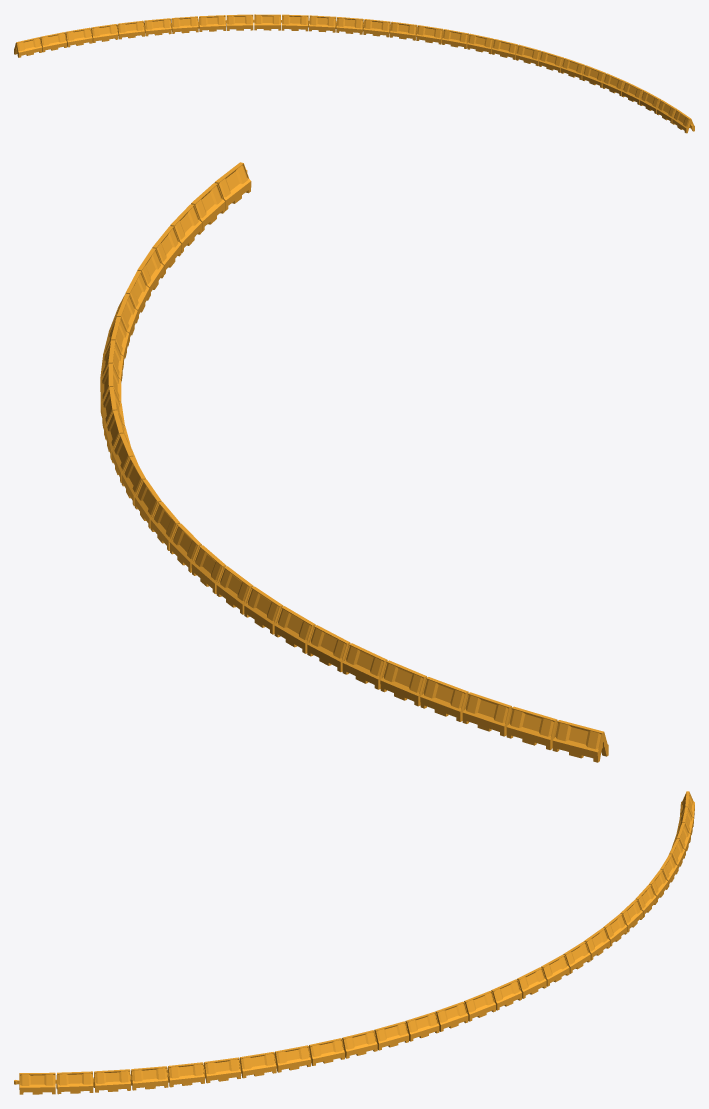
Rendered from SM_Fence_Road_Plastic_Unicolor_20m_Corner_Inner.fbx.
3 renders of one model, top to bottom at view 1: azimuth 30°, elevation 25°; view 2: azimuth 150°, elevation 25°; view 3: azimuth 270°, elevation 25°, orthographic. The views are drawn at different scales.
Visible parts, largest first — view 1: SM_Fence_Road_Plastic_Unicolor_20m_Corner_Inner; view 2: SM_Fence_Road_Plastic_Unicolor_20m_Corner_Inner; view 3: SM_Fence_Road_Plastic_Unicolor_20m_Corner_Inner.
Part boxes in pixels (x1=…): SM_Fence_Road_Plastic_Unicolor_20m_Corner_Inner: x1=14, y1=14, x2=694, y2=133; SM_Fence_Road_Plastic_Unicolor_20m_Corner_Inner: x1=100, y1=162, x2=608, y2=762; SM_Fence_Road_Plastic_Unicolor_20m_Corner_Inner: x1=14, y1=791, x2=694, y2=1094.
Bounding box in the file's own units: 19.38 × 0.5693 × 19.53.
